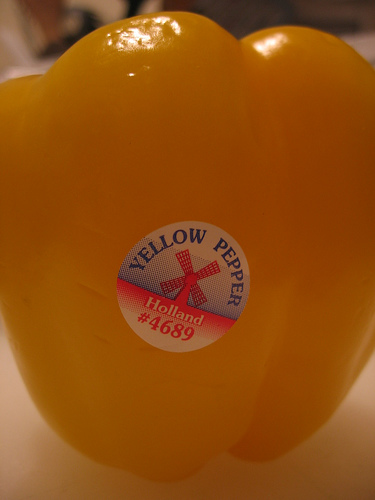capsicum: (2, 1, 373, 470)
